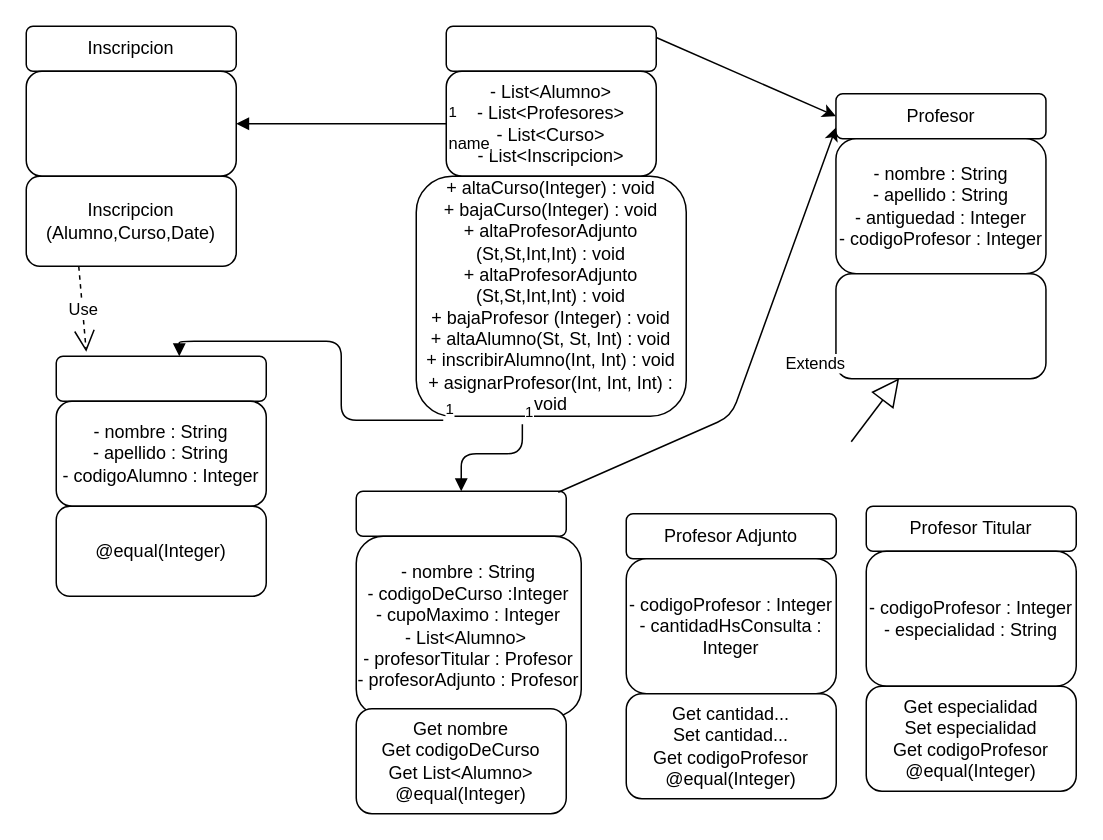
This 1103x840 diagram has some shape labels left out. Each missing label, with the centre of its shape:
- unalumno : Alumno - uncurso : Curso - fechaInscripcion : Date: point 130,123
Alumno: point 160,378
Curso: point 460,513
Digital House Manager: point 550,48
Get codigoProfesor @equal(Integer): point 940,325
